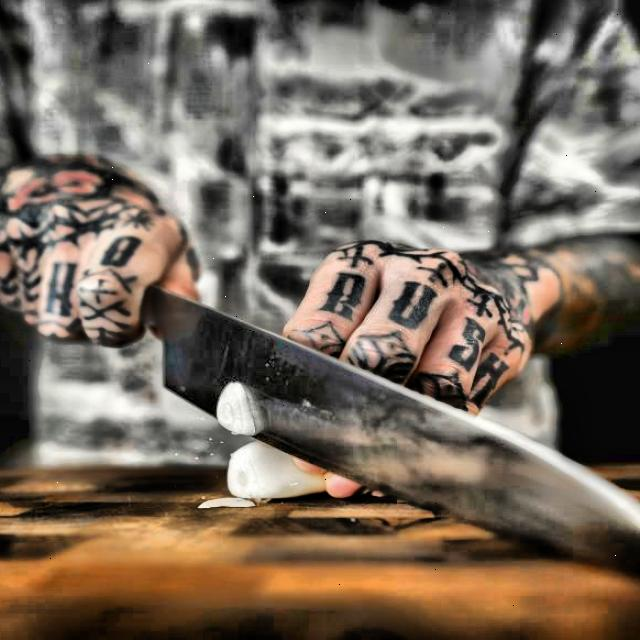knife: (124, 275, 640, 584)
